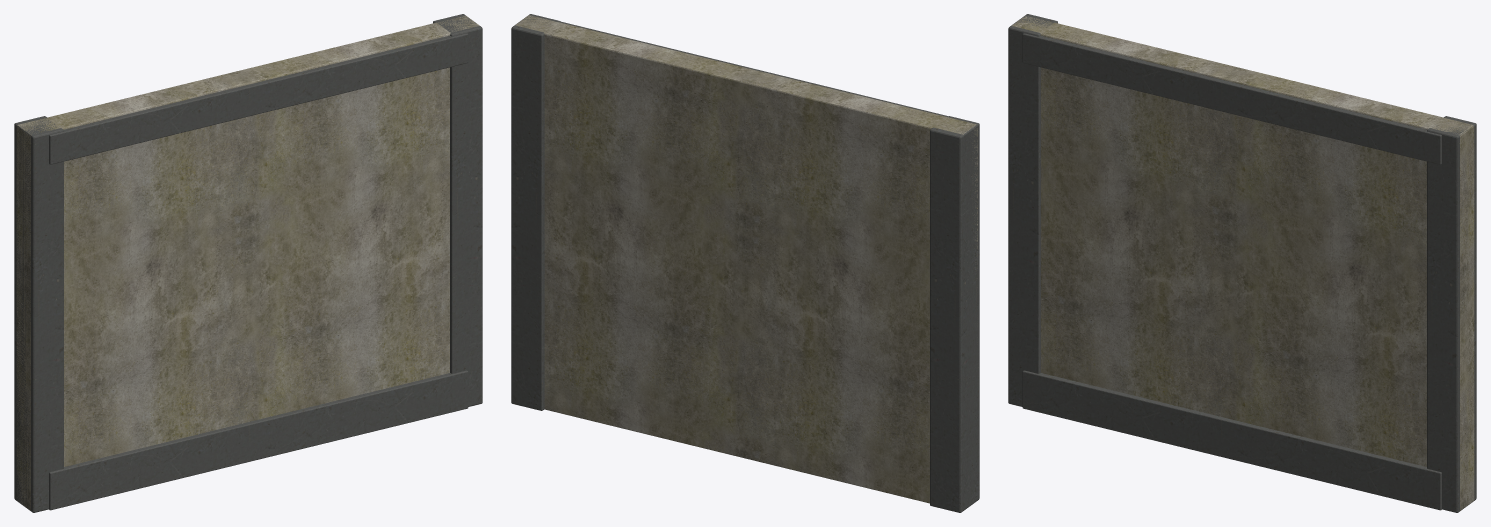
The model's file is wall_solid_4m.glb.
3 views of the same model, side by side, from view 1: azimuth 30°, elevation 25°; view 2: azimuth 150°, elevation 25°; view 3: azimuth 330°, elevation 25° (orthographic).
Visible parts, largest first — view 1: Masonry infill, Foundation band.001, Cast concrete edge pier.002, Upper concrete ring beam, Cast concrete edge pier.003; view 2: Masonry infill, Cast concrete edge pier.002, Cast concrete edge pier.003, Upper concrete ring beam; view 3: Masonry infill, Foundation band.001, Upper concrete ring beam, Cast concrete edge pier.003, Cast concrete edge pier.002.
Part boxes in pixels (bbox=[...]): Masonry infill: bbox=[16, 15, 479, 510]; Foundation band.001: bbox=[49, 370, 468, 510]; Cast concrete edge pier.002: bbox=[14, 116, 63, 512]; Upper concrete ring beam: bbox=[49, 33, 468, 164]; Cast concrete edge pier.003: bbox=[433, 14, 482, 406]; Masonry infill: bbox=[515, 15, 977, 503]; Cast concrete edge pier.002: bbox=[930, 116, 979, 512]; Cast concrete edge pier.003: bbox=[511, 14, 560, 410]; Upper concrete ring beam: bbox=[561, 21, 947, 116]; Masonry infill: bbox=[1012, 16, 1474, 510]; Foundation band.001: bbox=[1022, 370, 1441, 510]; Upper concrete ring beam: bbox=[1022, 33, 1441, 164]; Cast concrete edge pier.003: bbox=[1427, 116, 1476, 512]; Cast concrete edge pier.002: bbox=[1008, 14, 1057, 406].
Size of the model in its own units: 4 by 3.2 by 0.3175.
Materials: 2 (2 with a texture image).
